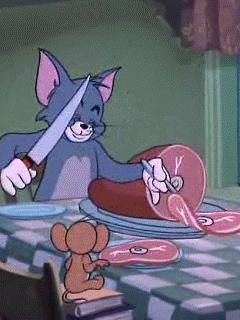jerry: (50, 213, 111, 303)
